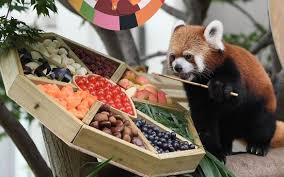redPanda: (161, 15, 276, 160)
